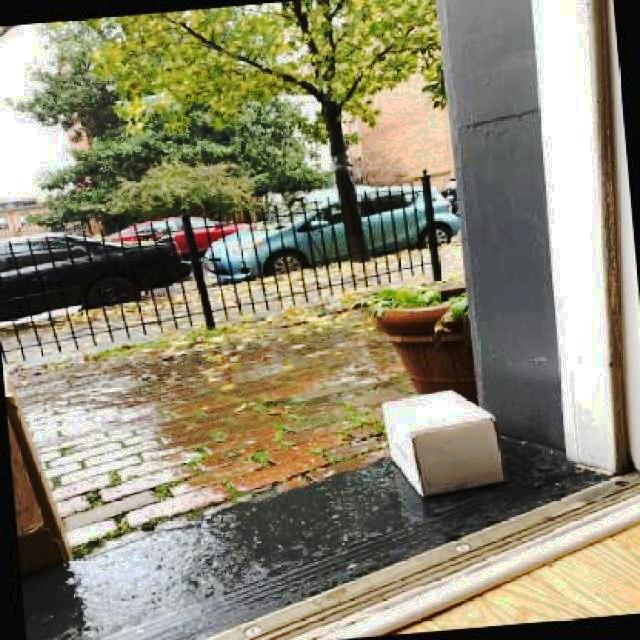Box: (371, 382, 520, 506)
